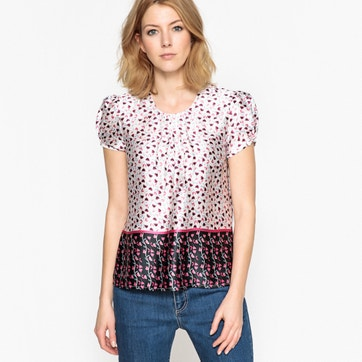C_jeans: (114, 288, 254, 362)
C_short blouse: (96, 83, 258, 293)
